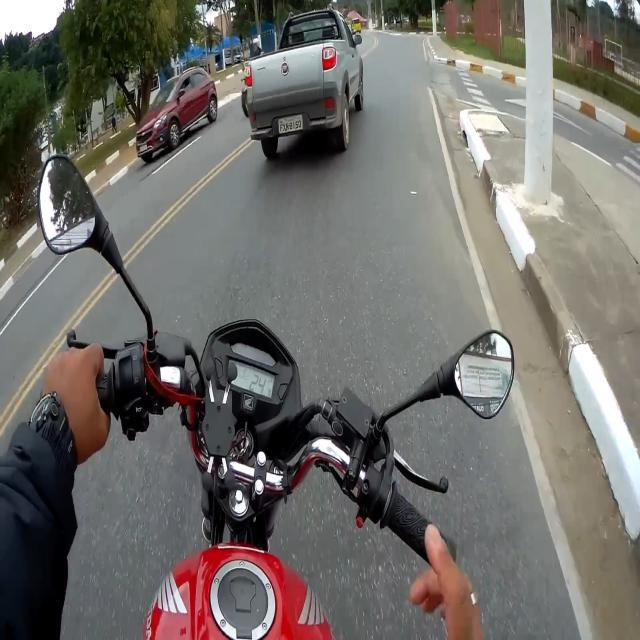Placa_mercosul_carro: (278, 115, 303, 133)
